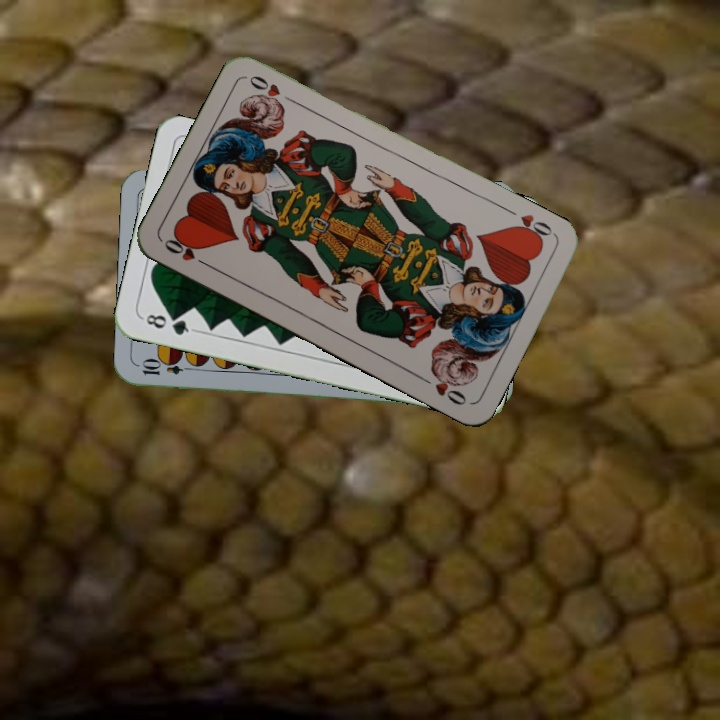E10: (138, 359, 197, 378)
G8: (138, 310, 197, 338)
HO: (159, 232, 214, 271), (507, 210, 558, 246)
